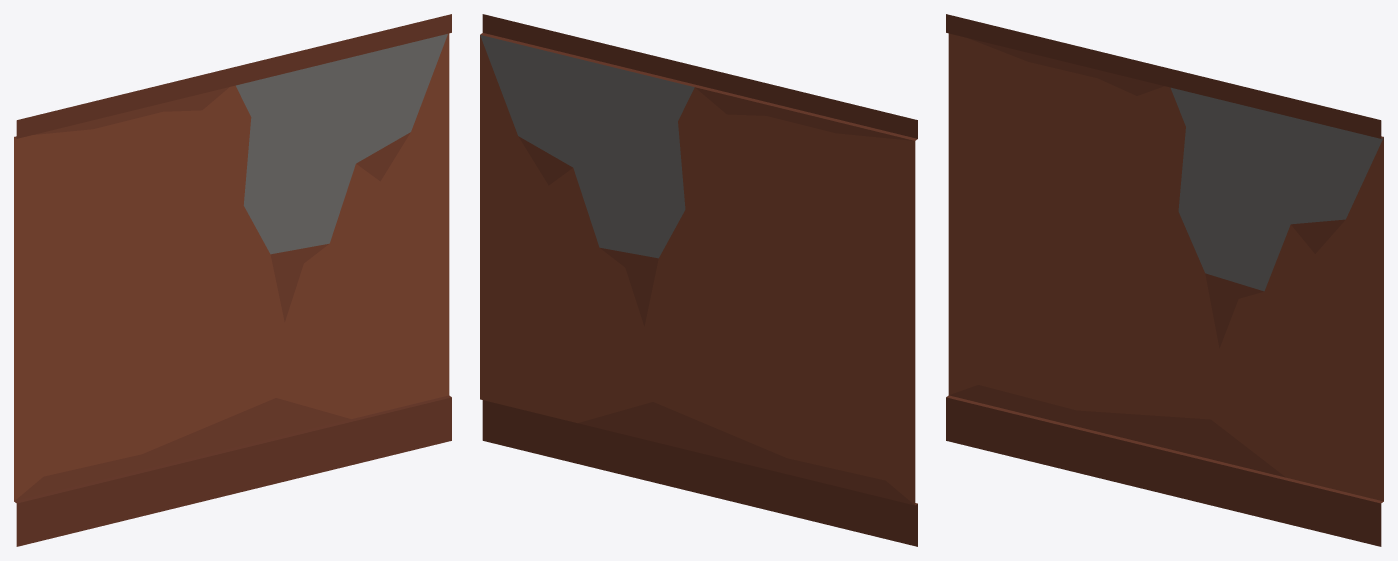
Rendered from AI_Env_Wall_Red_TornWallpaper_01.fbx.
3 views of the same model, side by side, from view 1: azimuth 30°, elevation 25°; view 2: azimuth 150°, elevation 25°; view 3: azimuth 330°, elevation 25° (orthographic).
Parts seen in each view (by area): view 1: AI_Env_Wall_Red_TornWallpaper_01; view 2: AI_Env_Wall_Red_TornWallpaper_01; view 3: AI_Env_Wall_Red_TornWallpaper_01.
Boxes of the visible parts, left/top/right/bottom form: AI_Env_Wall_Red_TornWallpaper_01: left=14, top=14, right=451, bottom=546; AI_Env_Wall_Red_TornWallpaper_01: left=480, top=14, right=917, bottom=546; AI_Env_Wall_Red_TornWallpaper_01: left=946, top=14, right=1383, bottom=546.
Bounding box in the file's own units: 5 × 4.69 × 0.0549.
